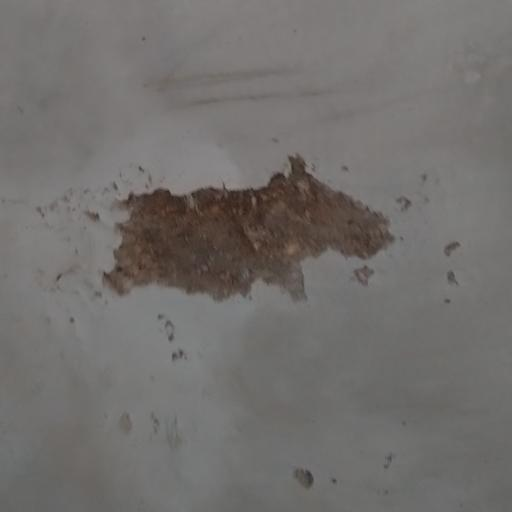peeling: (18, 144, 490, 372), (275, 442, 350, 499)
